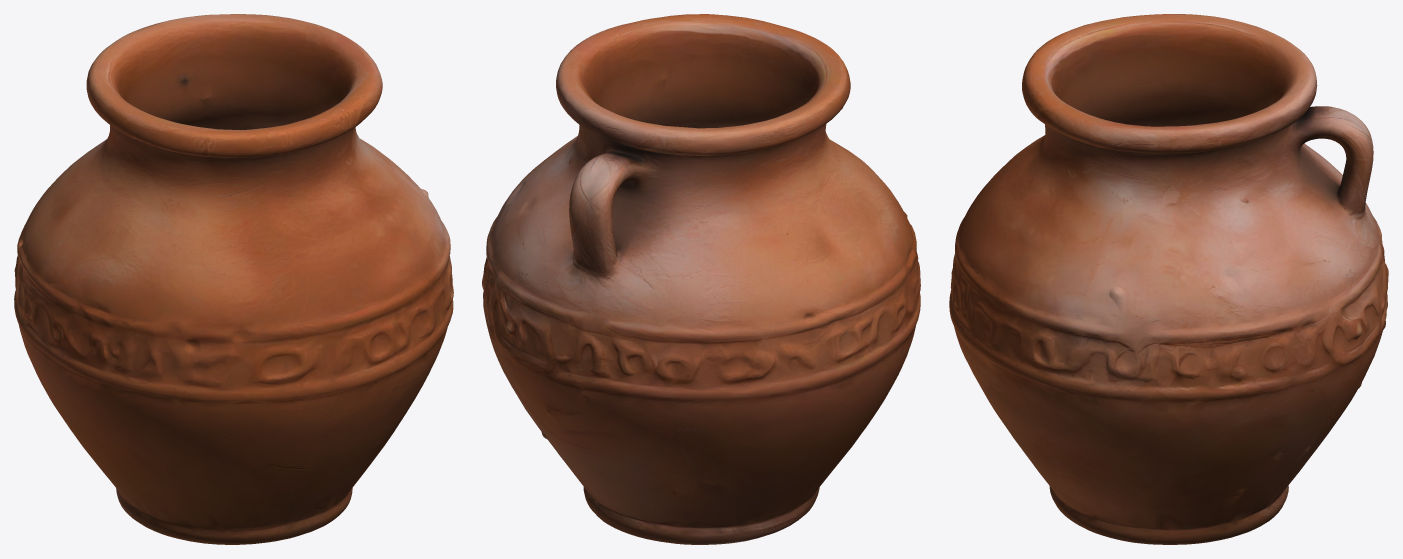
The model's file is prop-pot-clay.glb.
The picture shows the model from 3 angles, left to right: view 1: azimuth 30°, elevation 25°; view 2: azimuth 150°, elevation 25°; view 3: azimuth 270°, elevation 25°; orthographic projection.
Parts seen in each view (by area): view 1: tripo_node_1d1ede2a-9f4a-413b-94a0-1c5b834be143; view 2: tripo_node_1d1ede2a-9f4a-413b-94a0-1c5b834be143; view 3: tripo_node_1d1ede2a-9f4a-413b-94a0-1c5b834be143.
Boxes of the visible parts, x1,y1,x2,y2 form: tripo_node_1d1ede2a-9f4a-413b-94a0-1c5b834be143: (14,14,453,544); tripo_node_1d1ede2a-9f4a-413b-94a0-1c5b834be143: (482,14,920,544); tripo_node_1d1ede2a-9f4a-413b-94a0-1c5b834be143: (949,14,1388,544).
Bounding box in the file's own units: 0.7333 × 0.8 × 0.7367.
Materials: 1 (1 with a texture image).
